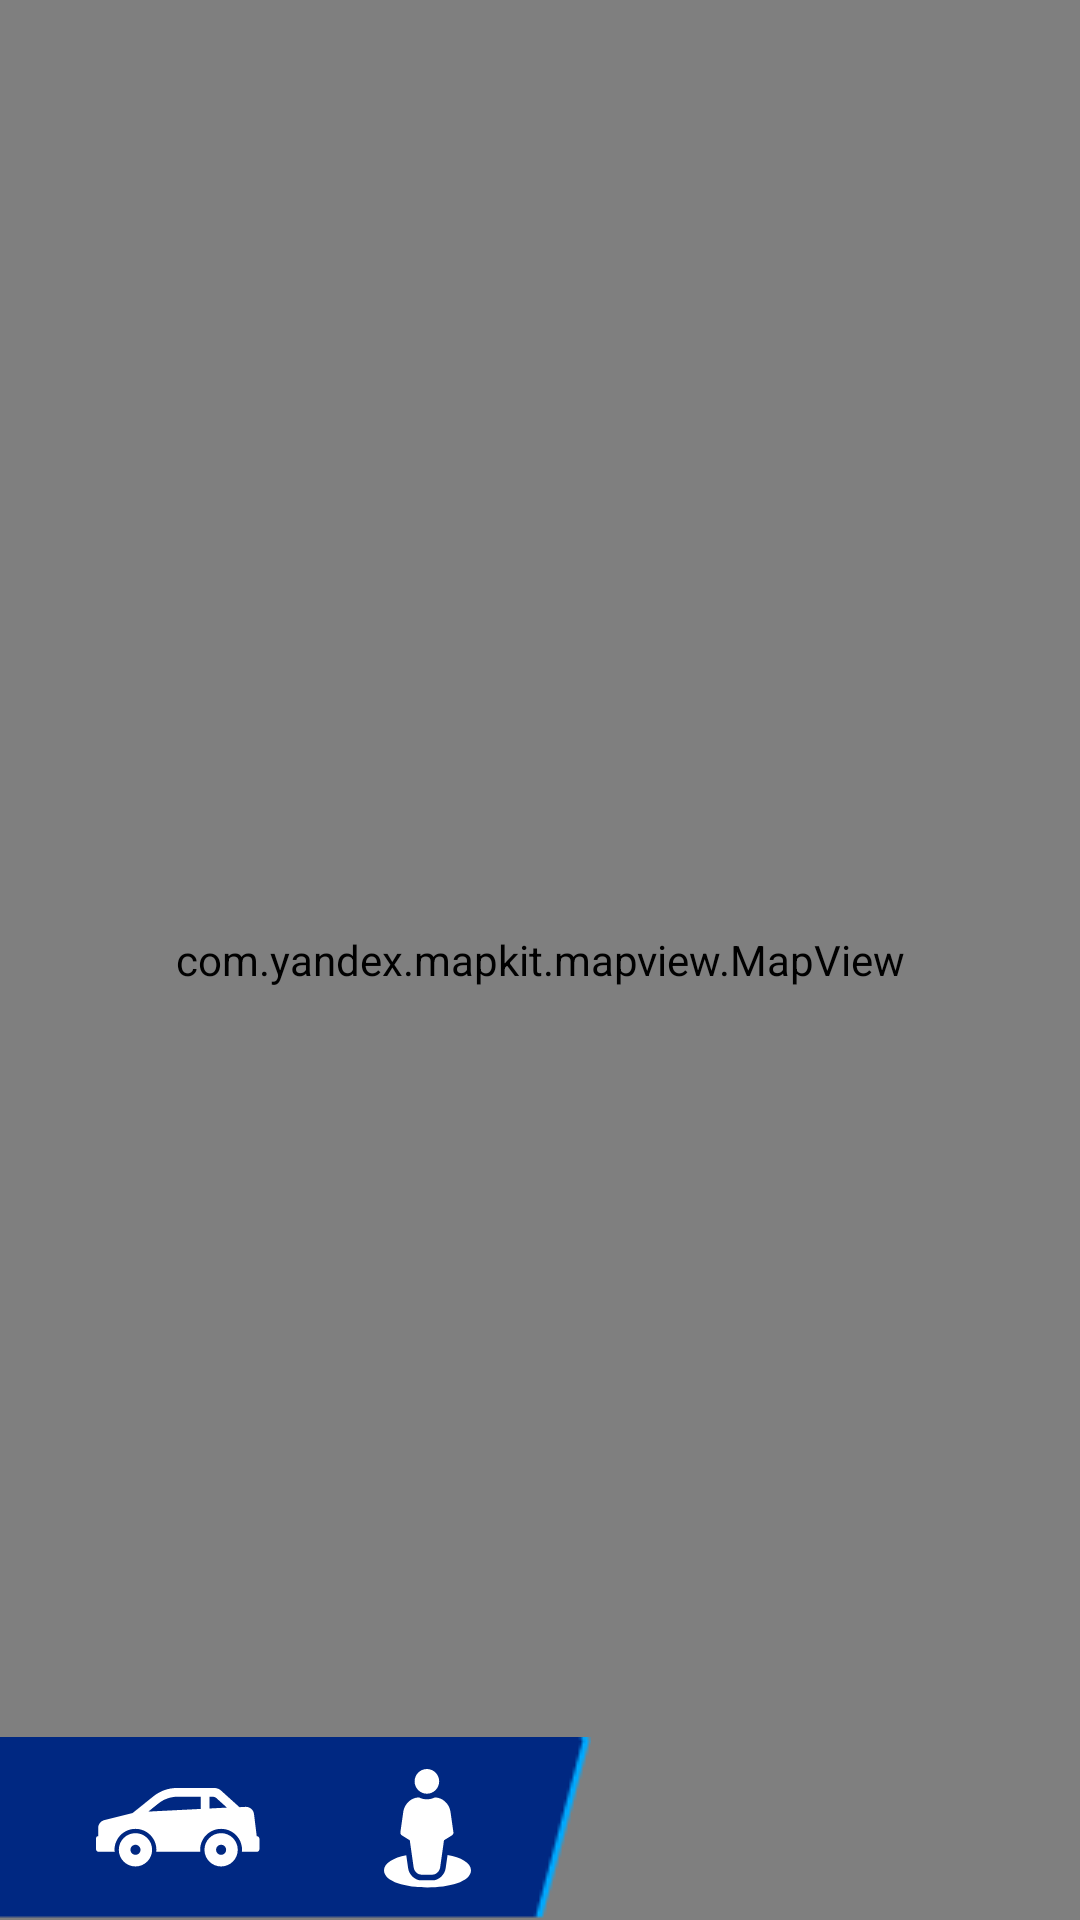

Icon bounding boxes for this 1080*1920 phone screenshot, format (x1, y1, x2, y2):
car: (96, 1788, 260, 1867)
human: (384, 1769, 471, 1888)
